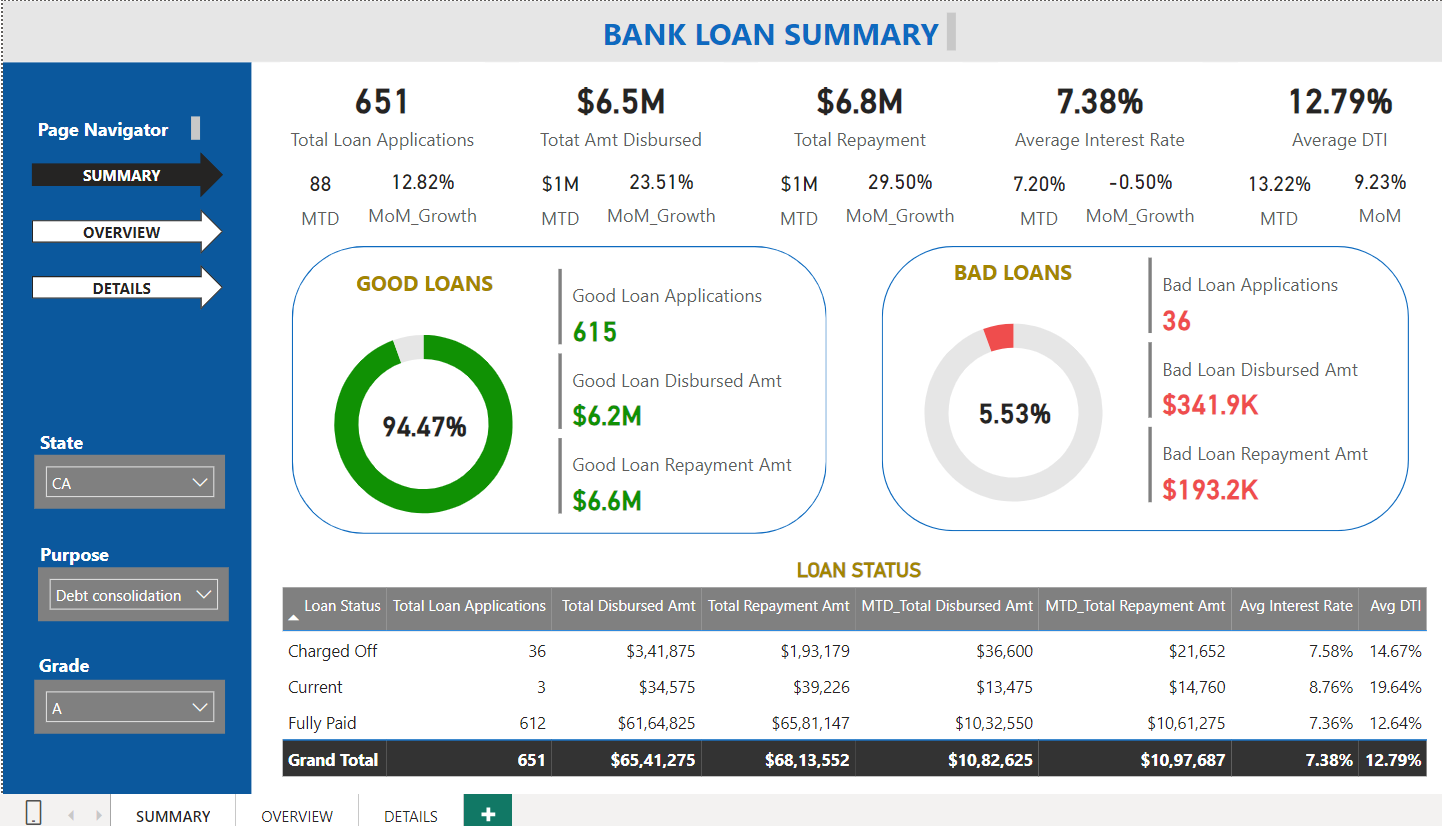

The dashboard page shown, as its layout file describes it:
{"tool":"powerbi","page":{"name":"SUMMARY","canvas":[1280,720],"ordinal":0},"visuals":[{"type":"shape","box":[0,54.7,220.9,665.1],"z":0},{"type":"card","fields":{"Values":["LoanData.TotLoanApplications"]},"box":[246.5,54.7,181.4,87.2],"z":0,"group":"g2"},{"type":"card","fields":{"Values":["LoanData.TotAmtDisbursed"]},"box":[459,54.7,181.4,87.2],"z":0,"group":"g3"},{"type":"card","fields":{"Values":["LoanData.TotRepayment"]},"box":[671.4,54.7,181.4,87.2],"z":0,"group":"g4"},{"type":"card","fields":{"Values":["LoanData.AvgIntRate"]},"box":[884.6,54.7,181.4,87.2],"z":0,"group":"g6"},{"type":"card","fields":{"Values":["LoanData.AvgDTI"]},"box":[1097.8,54.7,181.4,87.2],"z":0,"group":"g7"},{"type":"group","id":"g1","title":"Group 2","box":[260.1,271.4,227.9,208.1],"z":0,"group":"g8"},{"type":"shape","box":[0,0,1280.2,54.7],"z":1000},{"type":"card","fields":{"Values":["LoanData.MTD_TotApplications"]},"box":[246.6,142.3,70.9,64],"z":1000,"group":"g2"},{"type":"card","fields":{"Values":["LoanData.MTD_TotDisbursed"]},"box":[458.6,142.3,73.3,64],"z":1000,"group":"g3"},{"type":"card","fields":{"Values":["LoanData.MTD_TotRepayment"]},"box":[671,142.3,73.3,64],"z":1000,"group":"g4"},{"type":"card","fields":{"Values":["LoanData.MTD_IntRate"]},"box":[884.2,142.3,73.3,64],"z":1000,"group":"g6"},{"type":"card","fields":{"Values":["LoanData.MTD_DTI"]},"box":[1097.4,142.3,73.3,64],"z":1000,"group":"g7"},{"type":"textbox","box":[308.9,233,146.5,38.4],"z":1000,"group":"g8"},{"type":"textbox","box":[527.8,5.6,324.4,44.4],"z":2000},{"type":"card","fields":{"Values":["LoanData.MoM_LoanAppl"]},"box":[317.4,139.6,110.5,66.3],"z":2000,"group":"g2"},{"type":"card","fields":{"Values":["LoanData.MoM_AmtDisbursed"]},"box":[530,139.6,110.5,66.3],"z":2000,"group":"g3"},{"type":"card","fields":{"Values":["LoanData.MoM_TotRepayment"]},"box":[742.4,139.6,110.5,66.3],"z":2000,"group":"g4"},{"type":"card","fields":{"Values":["LoanData.MoM_IntRate"]},"box":[955.6,139.6,110.5,66.3],"z":2000,"group":"g6"},{"type":"card","fields":{"Values":["LoanData.MoM_DTI"]},"box":[1168.8,139.6,110.5,66.3],"z":2000,"group":"g7"},{"type":"cardVisual","fields":{"Data":["LoanData.GoodLoanAppl","LoanData.GoodLoanDisbAmt","LoanData.GoodLoanRepayAmt"]},"box":[489.1,233,234.9,229.1],"z":2000,"group":"g8"},{"type":"group","id":"g2","title":"Group 1","box":[246.5,54.7,181.4,151.2],"z":3000},{"type":"shape","box":[257,217.4,475.6,255.8],"z":3000,"group":"g8"},{"type":"group","id":"g3","title":"Group 1","box":[458.6,54.7,181.8,151.6],"z":4000},{"type":"textbox","box":[840.8,223.3,146.5,38.4],"z":4000,"group":"g5"},{"type":"group","id":"g4","title":"Group 1","box":[671,54.7,182.6,151.2],"z":5000},{"type":"group","id":"g5","title":"Group 4","box":[784.9,223.3,446.5,246.5],"z":6000},{"type":"donutChart","fields":{"Category":["LoanData.Good vs Bad loans"],"Y":["LoanData.TotLoanApplications"]},"box":[260.1,271.4,227.9,208.1],"z":6250,"group":"g1"},{"type":"card","fields":{"Values":["LoanData.GoodLoan%"]},"box":[321.1,348.8,107.3,54.5],"z":6500,"group":"g1"},{"type":"shape","box":[781.4,217.4,468.6,253.5],"z":7000},{"type":"cardVisual","fields":{"Data":["LoanData.BadLoanAppl","LoanData.BadLoanDisbAmt","LoanData.BadLoanRepayAmt"]},"box":[1014.1,223.3,217.4,229.1],"z":7000,"group":"g5"},{"type":"group","id":"g6","title":"Group 1","box":[884.2,54.7,182.6,151.2],"z":8000},{"type":"group","id":"g7","title":"Group 1","box":[1097.4,54.7,182.6,151.2],"z":9000},{"type":"donutChart","fields":{"Category":["LoanData.Good vs Bad loans"],"Y":["LoanData.TotLoanApplications"]},"box":[784.9,262.1,227.9,207.7],"z":9000,"group":"g5"},{"type":"group","id":"g8","title":"Group 3","box":[257,217.4,475.6,261.6],"z":10000},{"type":"card","fields":{"Values":["LoanData.BadLoan%"]},"box":[845.9,339.4,107.3,54.4],"z":10000,"group":"g5"},{"type":"tableEx","title":"LOAN STATUS","fields":{"Values":["LoanData.loan_status","LoanData.TotLoanApplications","LoanData.TotAmtDisbursed","LoanData.TotRepayment","LoanData.MTD_TotDisbursed","LoanData.MTD_TotRepayment","LoanData.AvgIntRate","LoanData.AvgDTI"]},"box":[241.9,495.4,1037.2,200],"z":11000},{"type":"group","id":"g9","title":"Group 5","box":[27.4,375.3,169.8,75.6],"z":12000},{"type":"slicer","fields":{"Values":["LoanData.address_state"]},"box":[27.4,403.2,169.8,47.7],"z":12000,"group":"g9"},{"type":"slicer","fields":{"Values":["LoanData.purpose"]},"box":[30.9,503,169.8,47.7],"z":12000,"group":"g10"},{"type":"slicer","fields":{"Values":["LoanData.grade"]},"box":[27.4,603.2,169.8,47.7],"z":12000,"group":"g11"},{"type":"textbox","box":[27.4,375.3,54.7,31.4],"z":13000,"group":"g9"},{"type":"group","id":"g10","title":"Group 5","box":[27.4,475.3,173.3,75.6],"z":13000},{"type":"textbox","box":[27.4,475.3,82.6,31.4],"z":13000,"group":"g10"},{"type":"textbox","box":[26.7,574.4,82.6,32.6],"z":13000,"group":"g11"},{"type":"textbox","box":[25.6,97.8,154.4,31.1],"z":14000},{"type":"group","id":"g11","title":"Group 5","box":[26.7,574.4,170.4,76.5],"z":15000},{"type":"pageNavigator","box":[25.6,134.4,170,142.2],"z":16000}]}

Visuals, with their boxes on the page's 1280x720 design canvas (x1, y1, x2, y2). These are canvas units, not pixel positions in the 1442x826 screenshot, which may show the page scaled, cropped or inside an application window:
shape: bbox(0, 55, 221, 720)
card - LoanData.TotLoanApplications: bbox(246, 55, 428, 142)
card - LoanData.TotAmtDisbursed: bbox(459, 55, 640, 142)
card - LoanData.TotRepayment: bbox(671, 55, 853, 142)
card - LoanData.AvgIntRate: bbox(885, 55, 1066, 142)
card - LoanData.AvgDTI: bbox(1098, 55, 1279, 142)
"Group 2" group: bbox(260, 271, 488, 480)
shape: bbox(0, 0, 1280, 55)
card - LoanData.MTD_TotApplications: bbox(247, 142, 318, 206)
card - LoanData.MTD_TotDisbursed: bbox(459, 142, 532, 206)
card - LoanData.MTD_TotRepayment: bbox(671, 142, 744, 206)
card - LoanData.MTD_IntRate: bbox(884, 142, 958, 206)
card - LoanData.MTD_DTI: bbox(1097, 142, 1171, 206)
textbox: bbox(309, 233, 455, 271)
textbox: bbox(528, 6, 852, 50)
card - LoanData.MoM_LoanAppl: bbox(317, 140, 428, 206)
card - LoanData.MoM_AmtDisbursed: bbox(530, 140, 640, 206)
card - LoanData.MoM_TotRepayment: bbox(742, 140, 853, 206)
card - LoanData.MoM_IntRate: bbox(956, 140, 1066, 206)
card - LoanData.MoM_DTI: bbox(1169, 140, 1279, 206)
cardVisual - LoanData.GoodLoanAppl x LoanData.GoodLoanDisbAmt: bbox(489, 233, 724, 462)
"Group 1" group: bbox(246, 55, 428, 206)
shape: bbox(257, 217, 733, 473)
"Group 1" group: bbox(459, 55, 640, 206)
textbox: bbox(841, 223, 987, 262)
"Group 1" group: bbox(671, 55, 854, 206)
"Group 4" group: bbox(785, 223, 1231, 470)
donutChart - LoanData.Good vs Bad loans x LoanData.TotLoanApplications: bbox(260, 271, 488, 480)
card - LoanData.GoodLoan%: bbox(321, 349, 428, 403)
shape: bbox(781, 217, 1250, 471)
cardVisual - LoanData.BadLoanAppl x LoanData.BadLoanDisbAmt: bbox(1014, 223, 1232, 452)
"Group 1" group: bbox(884, 55, 1067, 206)
"Group 1" group: bbox(1097, 55, 1280, 206)
donutChart - LoanData.Good vs Bad loans x LoanData.TotLoanApplications: bbox(785, 262, 1013, 470)
"Group 3" group: bbox(257, 217, 733, 479)
card - LoanData.BadLoan%: bbox(846, 339, 953, 394)
"LOAN STATUS" tableEx: bbox(242, 495, 1279, 695)
"Group 5" group: bbox(27, 375, 197, 451)
slicer - LoanData.address_state: bbox(27, 403, 197, 451)
slicer - LoanData.purpose: bbox(31, 503, 201, 551)
slicer - LoanData.grade: bbox(27, 603, 197, 651)
textbox: bbox(27, 375, 82, 407)
"Group 5" group: bbox(27, 475, 201, 551)
textbox: bbox(27, 475, 110, 507)
textbox: bbox(27, 574, 109, 607)
textbox: bbox(26, 98, 180, 129)
"Group 5" group: bbox(27, 574, 197, 651)
pageNavigator: bbox(26, 134, 196, 277)
